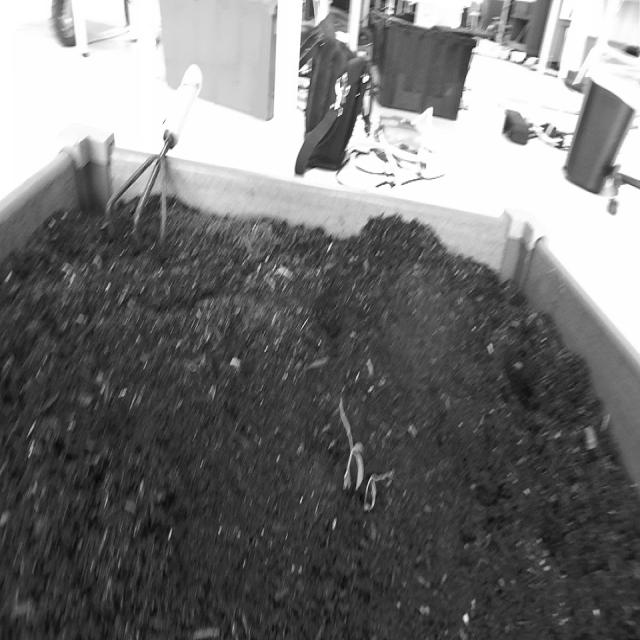Unhealthy: (324, 380, 398, 538)
